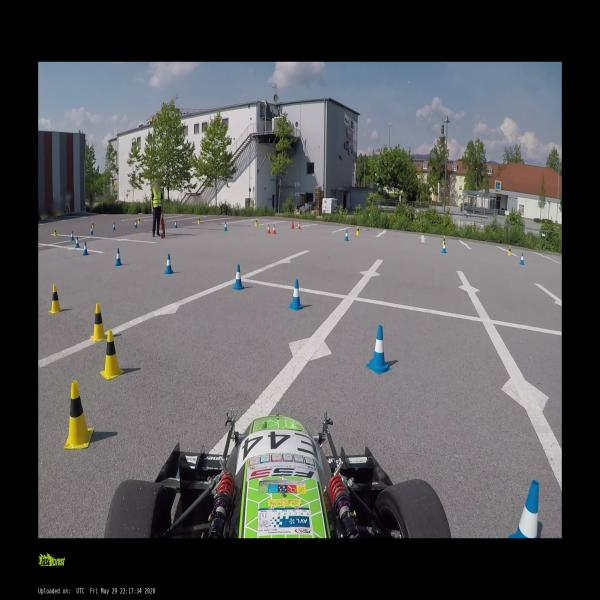blue_cone: (509, 480, 544, 538), (366, 326, 392, 373), (289, 280, 303, 309), (163, 253, 174, 275), (233, 265, 243, 289), (114, 248, 122, 266), (82, 241, 88, 256), (344, 230, 349, 241), (75, 236, 79, 249), (520, 253, 524, 265), (223, 222, 228, 231), (442, 242, 446, 253), (70, 231, 74, 241), (174, 220, 178, 228), (112, 222, 116, 230), (90, 226, 93, 234), (134, 220, 137, 228)
orange_cone: (272, 224, 276, 234), (291, 221, 295, 229), (267, 224, 270, 234), (298, 221, 301, 229)
yellow_cone: (63, 381, 94, 448), (100, 331, 124, 378), (89, 304, 108, 342), (48, 284, 63, 314), (441, 236, 445, 245), (508, 245, 511, 256), (53, 228, 57, 236), (254, 218, 258, 226), (196, 217, 200, 224), (137, 217, 141, 224), (356, 226, 359, 235), (91, 221, 94, 228)
